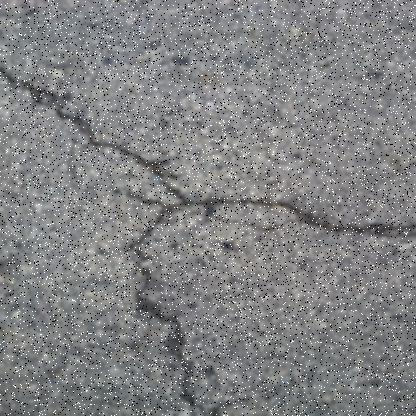Cracks: (0, 59, 416, 243), (109, 184, 231, 415)
